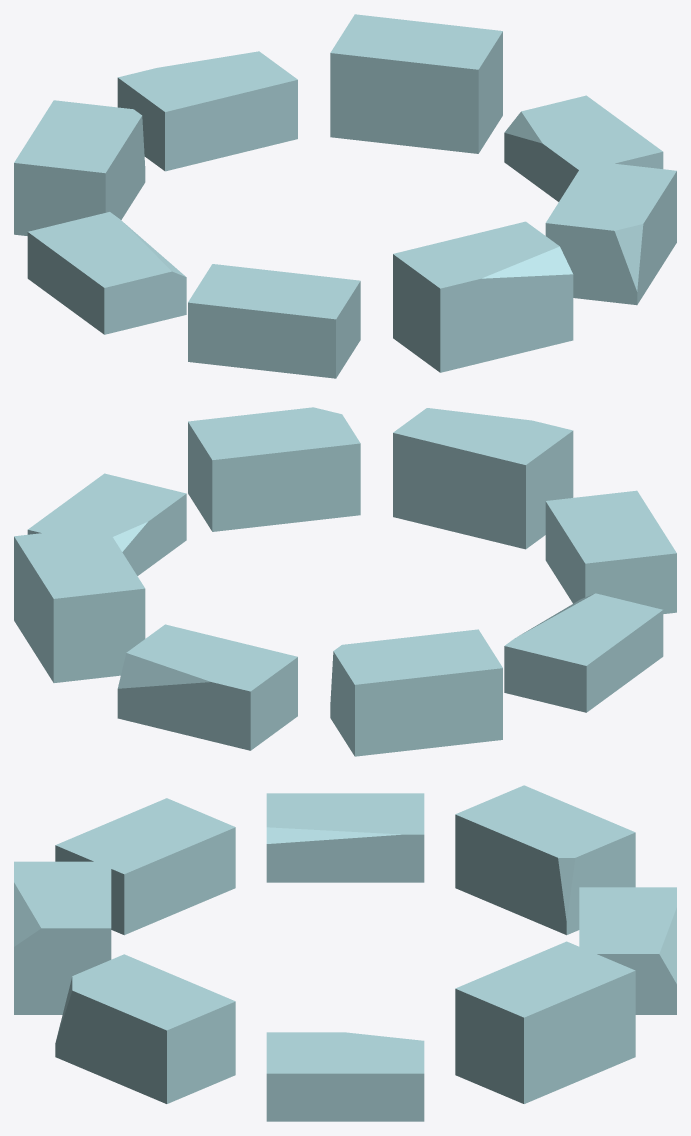
Rendered from campfire_bricks.dae.
3 views of the same model, one above another, from view 1: azimuth 30°, elevation 25°; view 2: azimuth 150°, elevation 25°; view 3: azimuth 270°, elevation 25° (orthographic). The views are drawn at different scales.
Parts seen in each view (by area): view 1: campfire_bricks; view 2: campfire_bricks; view 3: campfire_bricks.
Part boxes in pixels (left/top/right/bottom): campfire_bricks: left=14, top=14, right=676, bottom=378; campfire_bricks: left=14, top=407, right=676, bottom=756; campfire_bricks: left=14, top=785, right=676, bottom=1121.
Bounding box in the file's own units: 0.4692 × 0.0676 × 0.4692.
